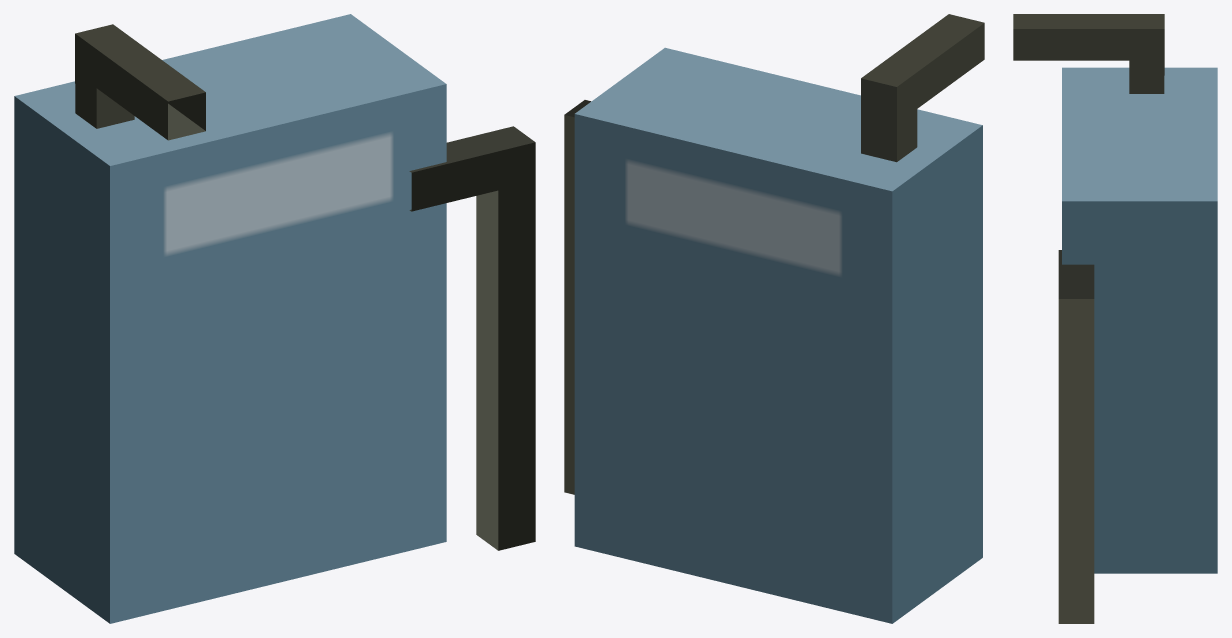
File: PowerBox_01.fbx
3 renders of one model, left to right at view 1: azimuth 30°, elevation 25°; view 2: azimuth 150°, elevation 25°; view 3: azimuth 270°, elevation 25°, orthographic. The views are drawn at different scales.
Visible parts, largest first — view 1: PowerBox_01; view 2: PowerBox_01; view 3: PowerBox_01.
Part boxes in pixels (box(x1,y1,x2,y2)): PowerBox_01: box(14, 14, 535, 623); PowerBox_01: box(564, 14, 984, 623); PowerBox_01: box(1013, 14, 1217, 623).
Bounding box in the file's own units: 1.22 × 1.54 × 0.6297.
